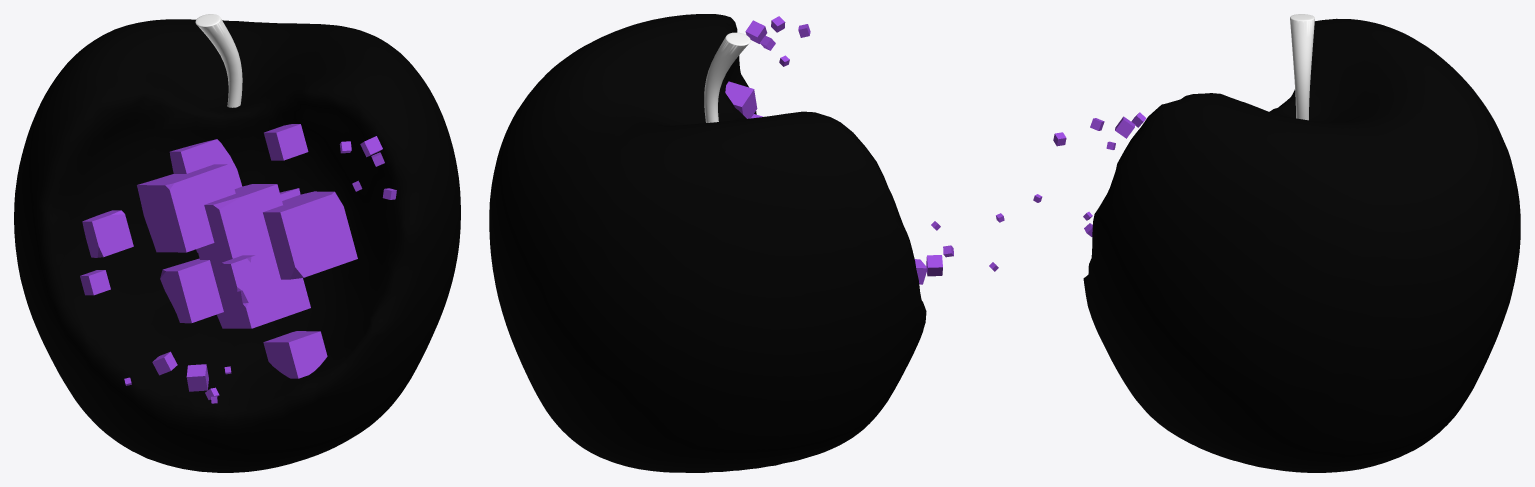
The model's file is testapple.fbx.
3 views of the same model, side by side, from view 1: azimuth 30°, elevation 25°; view 2: azimuth 150°, elevation 25°; view 3: azimuth 270°, elevation 25° (orthographic). The views are drawn at different scales.
Parts seen in each view (by area): view 1: geng; view 2: geng; view 3: geng.
Boxes of the visible parts, <box> form: geng: <box>14,14,460,472</box>; geng: <box>489,14,1004,472</box>; geng: <box>1033,14,1520,472</box>.
Size of the model in its own units: 220 by 218 by 239.
